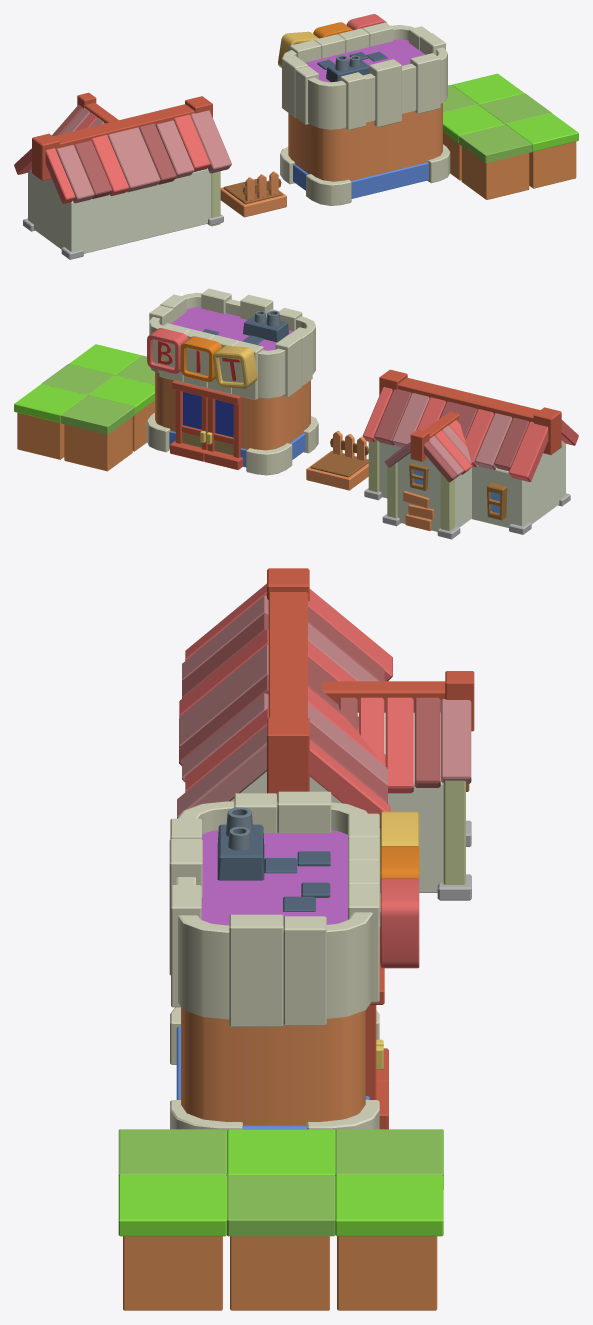
3 renders of one model, top to bottom at view 1: azimuth 30°, elevation 25°; view 2: azimuth 150°, elevation 25°; view 3: azimuth 270°, elevation 25°, orthographic. The views are drawn at different scales.
Parts seen in each view (by area): view 1: Cube.205, Cube.035, Cube.036, Cube.055, Cube.056, Cube.098, Cube.103, Cube.272, Cube.053, Cube.106, Cube.097, Cube.206 (+27 smaller); view 2: Cube.205, Cube.035, Cube.055, Cube.056, Cube.036, Cube.098, Cube.206, Cube.053, Cube.103, Cube.057, Cube.208, Cube.054 (+47 smaller); view 3: Cube.035, Cube.053, Cube.036, Cube.056, Cube.058, Cube.059, Cube.057, Cube.109, Cube.206, Cube.054, Cube.110, Cube.205 (+35 smaller).
Boxes of the visible parts, left/top/right/bottom form: Cube.205: left=28, top=168, right=211, bottom=253; Cube.035: left=288, top=39, right=442, bottom=181; Cube.036: left=282, top=25, right=447, bottom=129; Cube.055: left=443, top=132, right=529, bottom=199; Cube.056: left=443, top=85, right=531, bottom=163; Cube.098: left=280, top=144, right=450, bottom=205; Cube.103: left=290, top=22, right=393, bottom=62; Cube.272: left=108, top=127, right=160, bottom=192; Cube.053: left=529, top=141, right=576, bottom=188; Cube.106: left=369, top=59, right=401, bottom=127; Cube.097: left=293, top=162, right=428, bottom=198; Cube.206: left=53, top=104, right=194, bottom=147; Cube.205: left=379, top=440, right=565, bottom=531; Cube.035: left=155, top=307, right=310, bottom=450; Cube.055: left=64, top=400, right=154, bottom=471; Cube.056: left=61, top=355, right=154, bottom=434; Cube.036: left=149, top=292, right=315, bottom=398; Cube.098: left=146, top=412, right=318, bottom=475; Cube.206: left=397, top=377, right=540, bottom=422; Cube.053: left=17, top=412, right=64, bottom=459; Cube.103: left=159, top=323, right=263, bottom=400; Cube.057: left=14, top=384, right=87, bottom=422; Cube.208: left=508, top=421, right=548, bottom=481; Cube.054: left=89, top=375, right=154, bottom=414; Cube.035: left=181, top=829, right=365, bottom=1125; Cube.053: left=123, top=1236, right=437, bottom=1310; Cube.036: left=176, top=801, right=372, bottom=1019; Cube.056: left=118, top=1129, right=443, bottom=1189; Cube.058: left=227, top=1175, right=335, bottom=1236; Cube.059: left=118, top=1175, right=226, bottom=1236; Cube.057: left=335, top=1175, right=443, bottom=1236; Cube.109: left=229, top=914, right=283, bottom=1027; Cube.206: left=268, top=592, right=307, bottom=717; Cube.054: left=227, top=1129, right=335, bottom=1175; Cube.110: left=283, top=916, right=326, bottom=1025; Cube.205: left=231, top=712, right=443, bottom=892.
Size of the model in its own units: 21.31 by 6.08 by 6.57.
